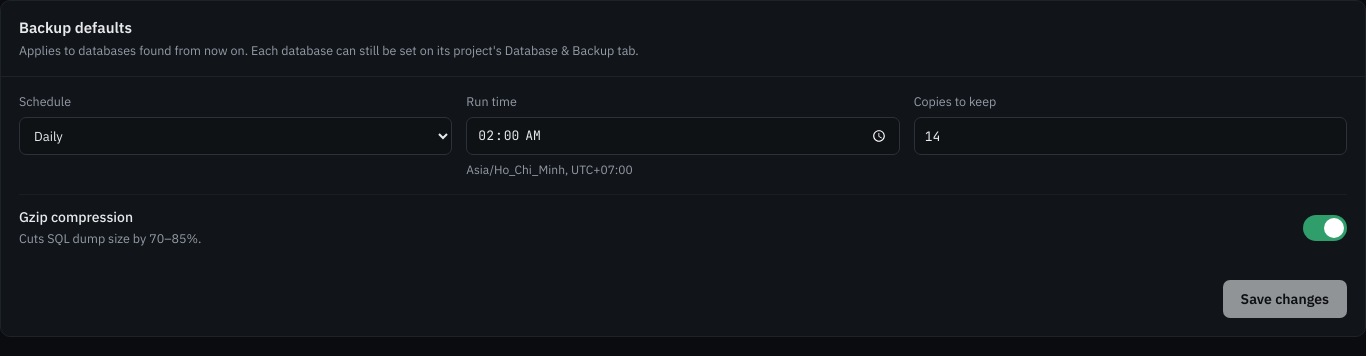
Scenario: Backup defaults card › shows a 422 under its field and focuses it; editing the field clears it
Replace the text in the number field labelled "Copies to keep" with "400" at point(1130, 136), box top-left (914, 117), bottom-right (1347, 155)
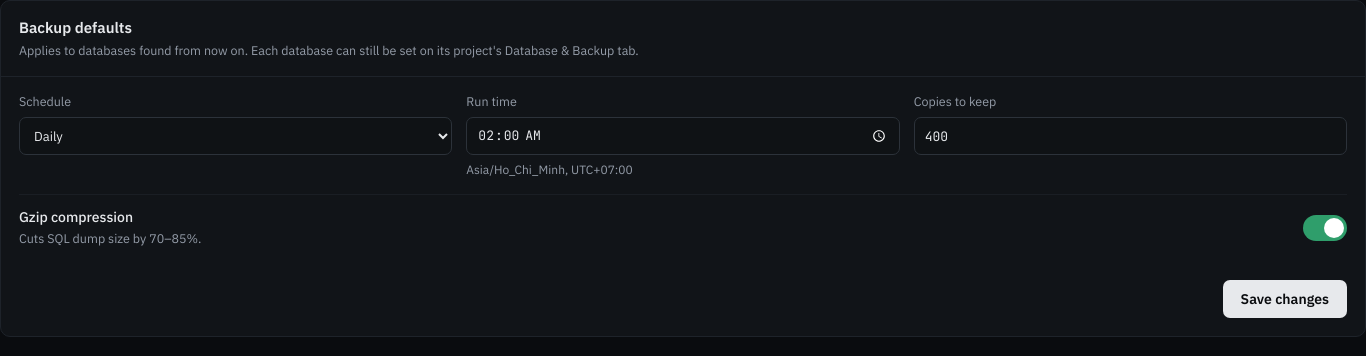
Click the button "Save changes" at point(1285, 299), box top-left (1223, 280), bottom-right (1347, 318)
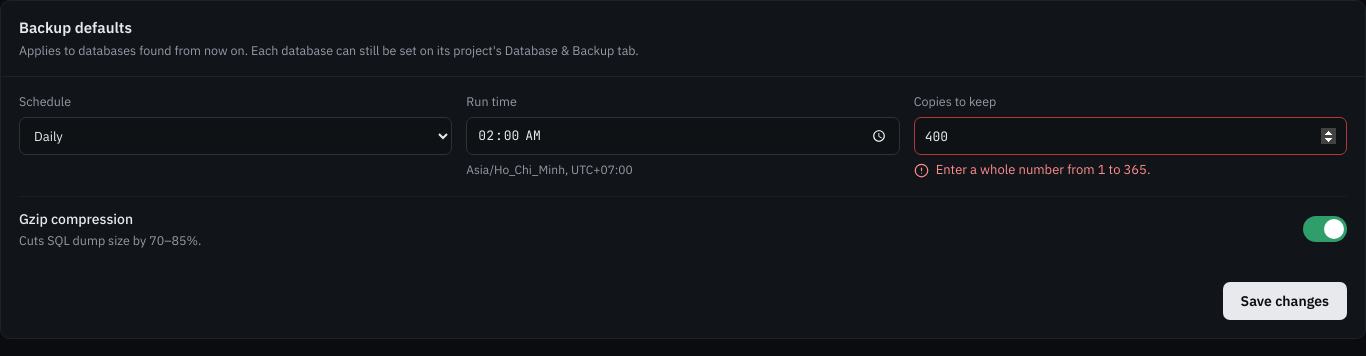
Expected: the number field labelled "Copies to keep" is marked as invalid
Replace the text in the number field labelled "Copies to keep" with "30" at point(1130, 136), box top-left (914, 117), bottom-right (1347, 155)
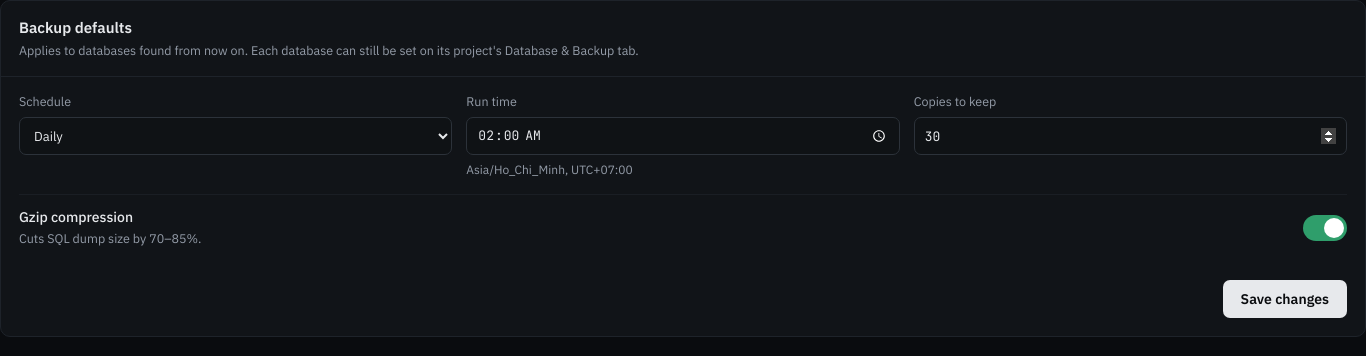
Expected: the text "Enter a whole number from 1 to 365." is gone
